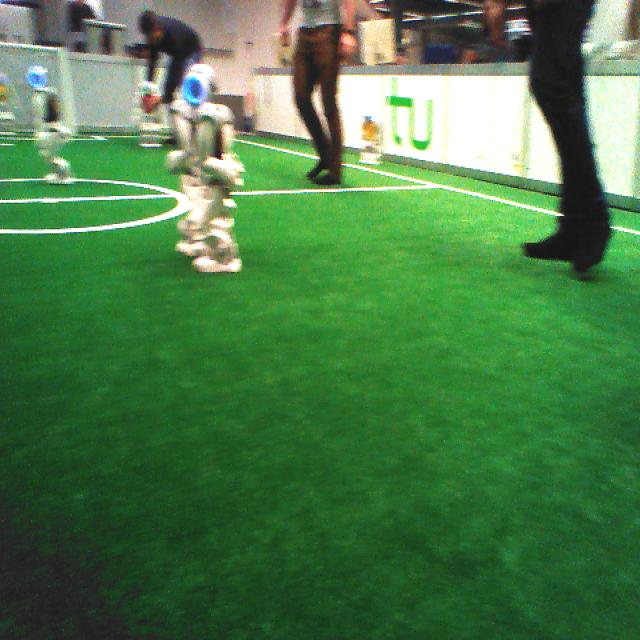goalpost: (56, 48, 77, 136)
